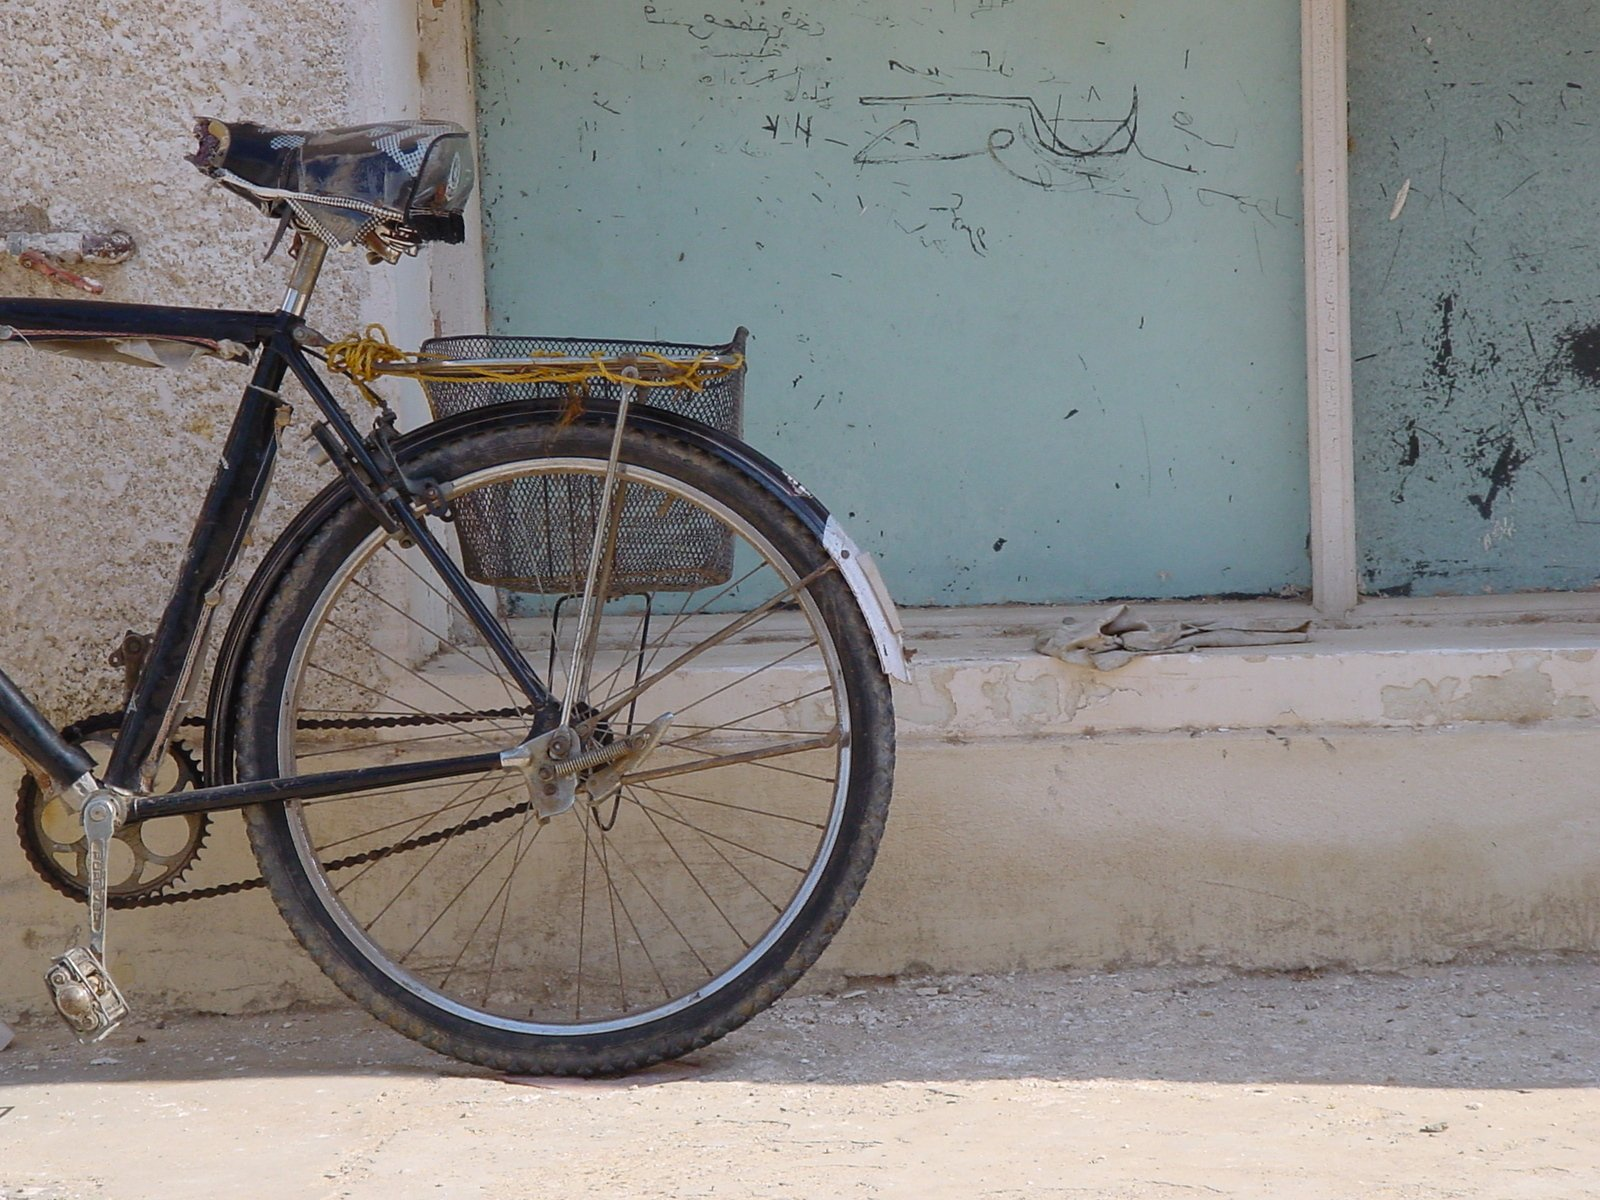Bicycle: (4, 39, 1600, 1168)
